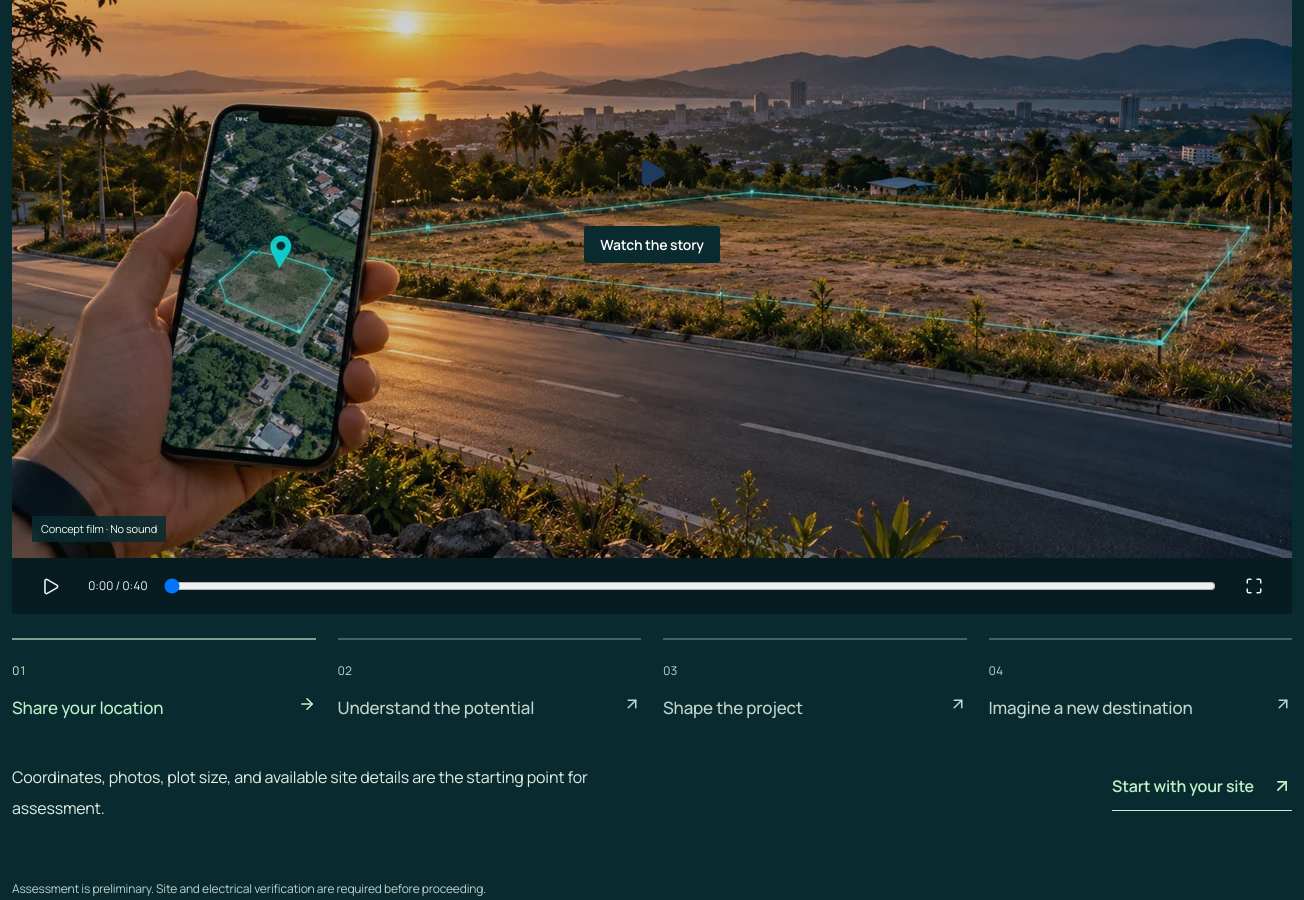
WorkflowFilm › clears the loading state when motion is paused during buffering
(page scrolled)
Click the button named "Play film". click: (50, 586)
box: [28,564,72,608]
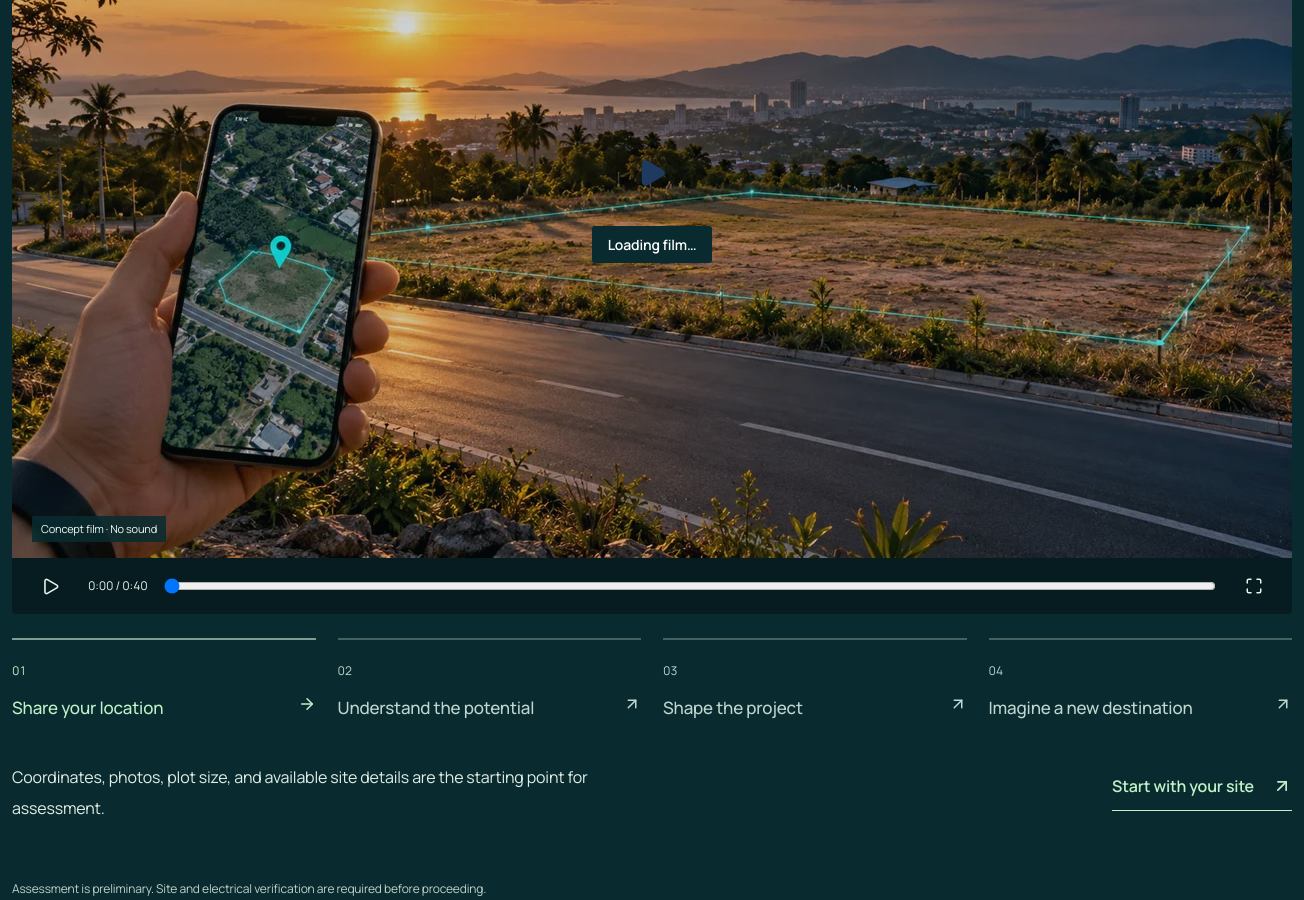
expect the text "Loading film…" is shown: met, box [592,226,712,263]
